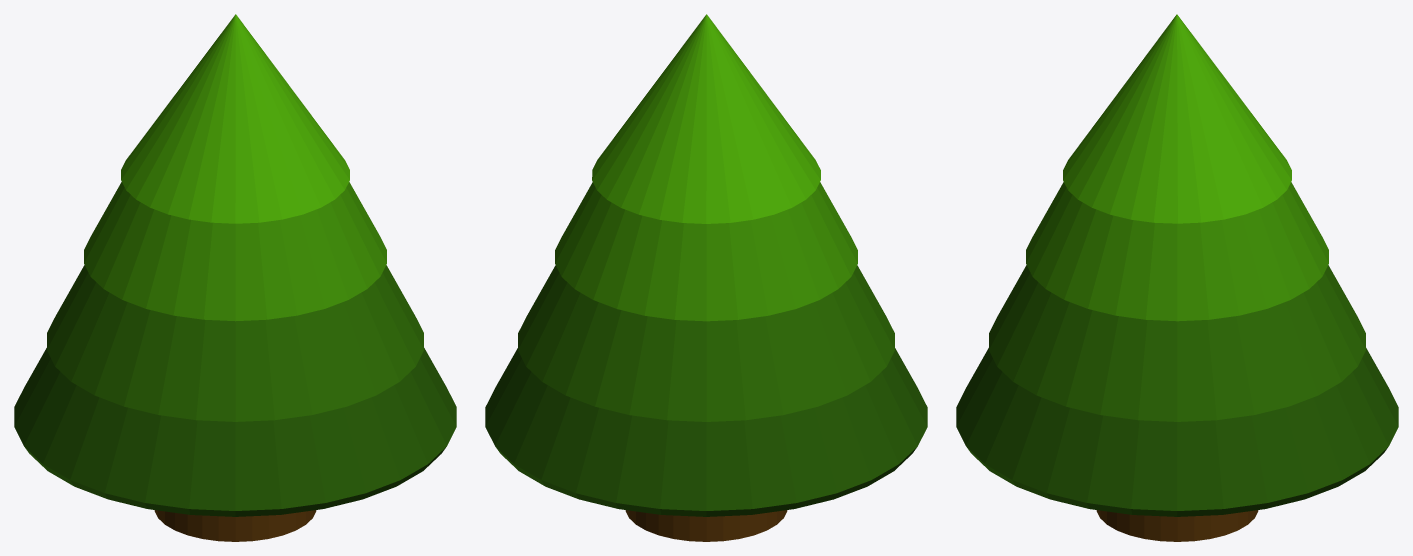
File: Tree.fbx
3 views of the same model, side by side, from view 1: azimuth 30°, elevation 25°; view 2: azimuth 150°, elevation 25°; view 3: azimuth 270°, elevation 25° (orthographic).
Visible parts, largest first — view 1: pCone1; view 2: pCone1; view 3: pCone1.
Part boxes in pixels (x1,y1,x2,y2): pCone1: (14,14,456,541); pCone1: (485,14,927,541); pCone1: (956,14,1398,541).
Bounding box in the file's own units: 9.8 × 12 × 9.75.
